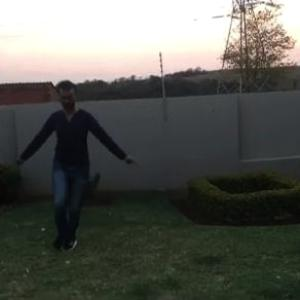land: (17, 80, 122, 232)
